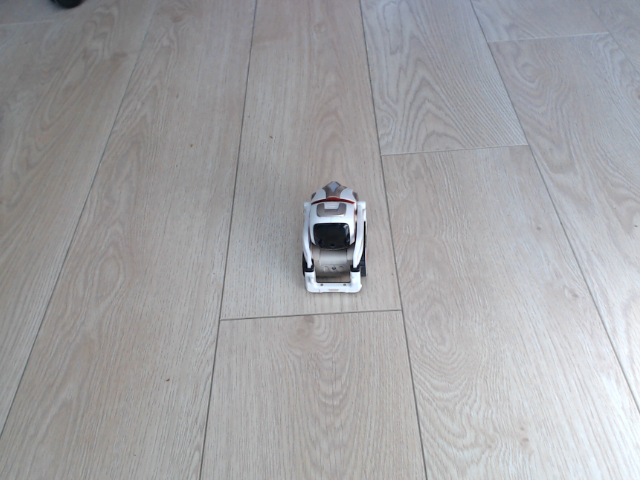cozmo: (297, 180, 371, 295)
